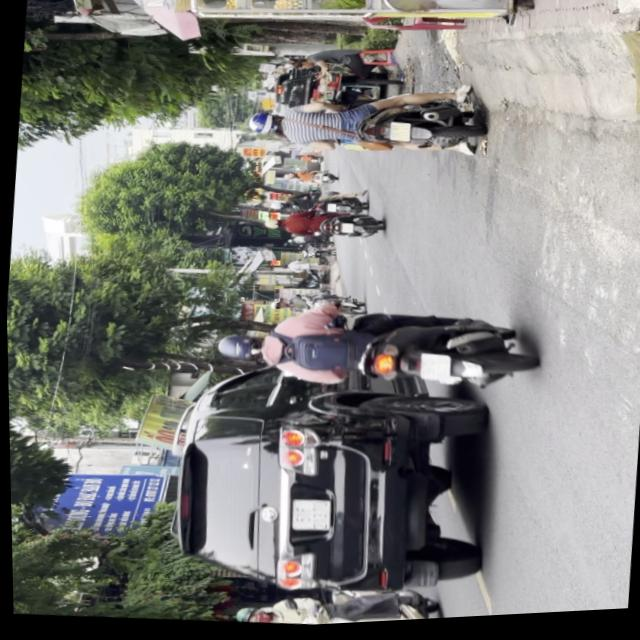helmet: (213, 332, 266, 366), (245, 113, 284, 140), (230, 607, 269, 627)
licenseplate: (207, 289, 537, 411), (241, 75, 488, 175), (226, 575, 447, 631)
nohelmet: (417, 354, 449, 386), (387, 124, 410, 146)
